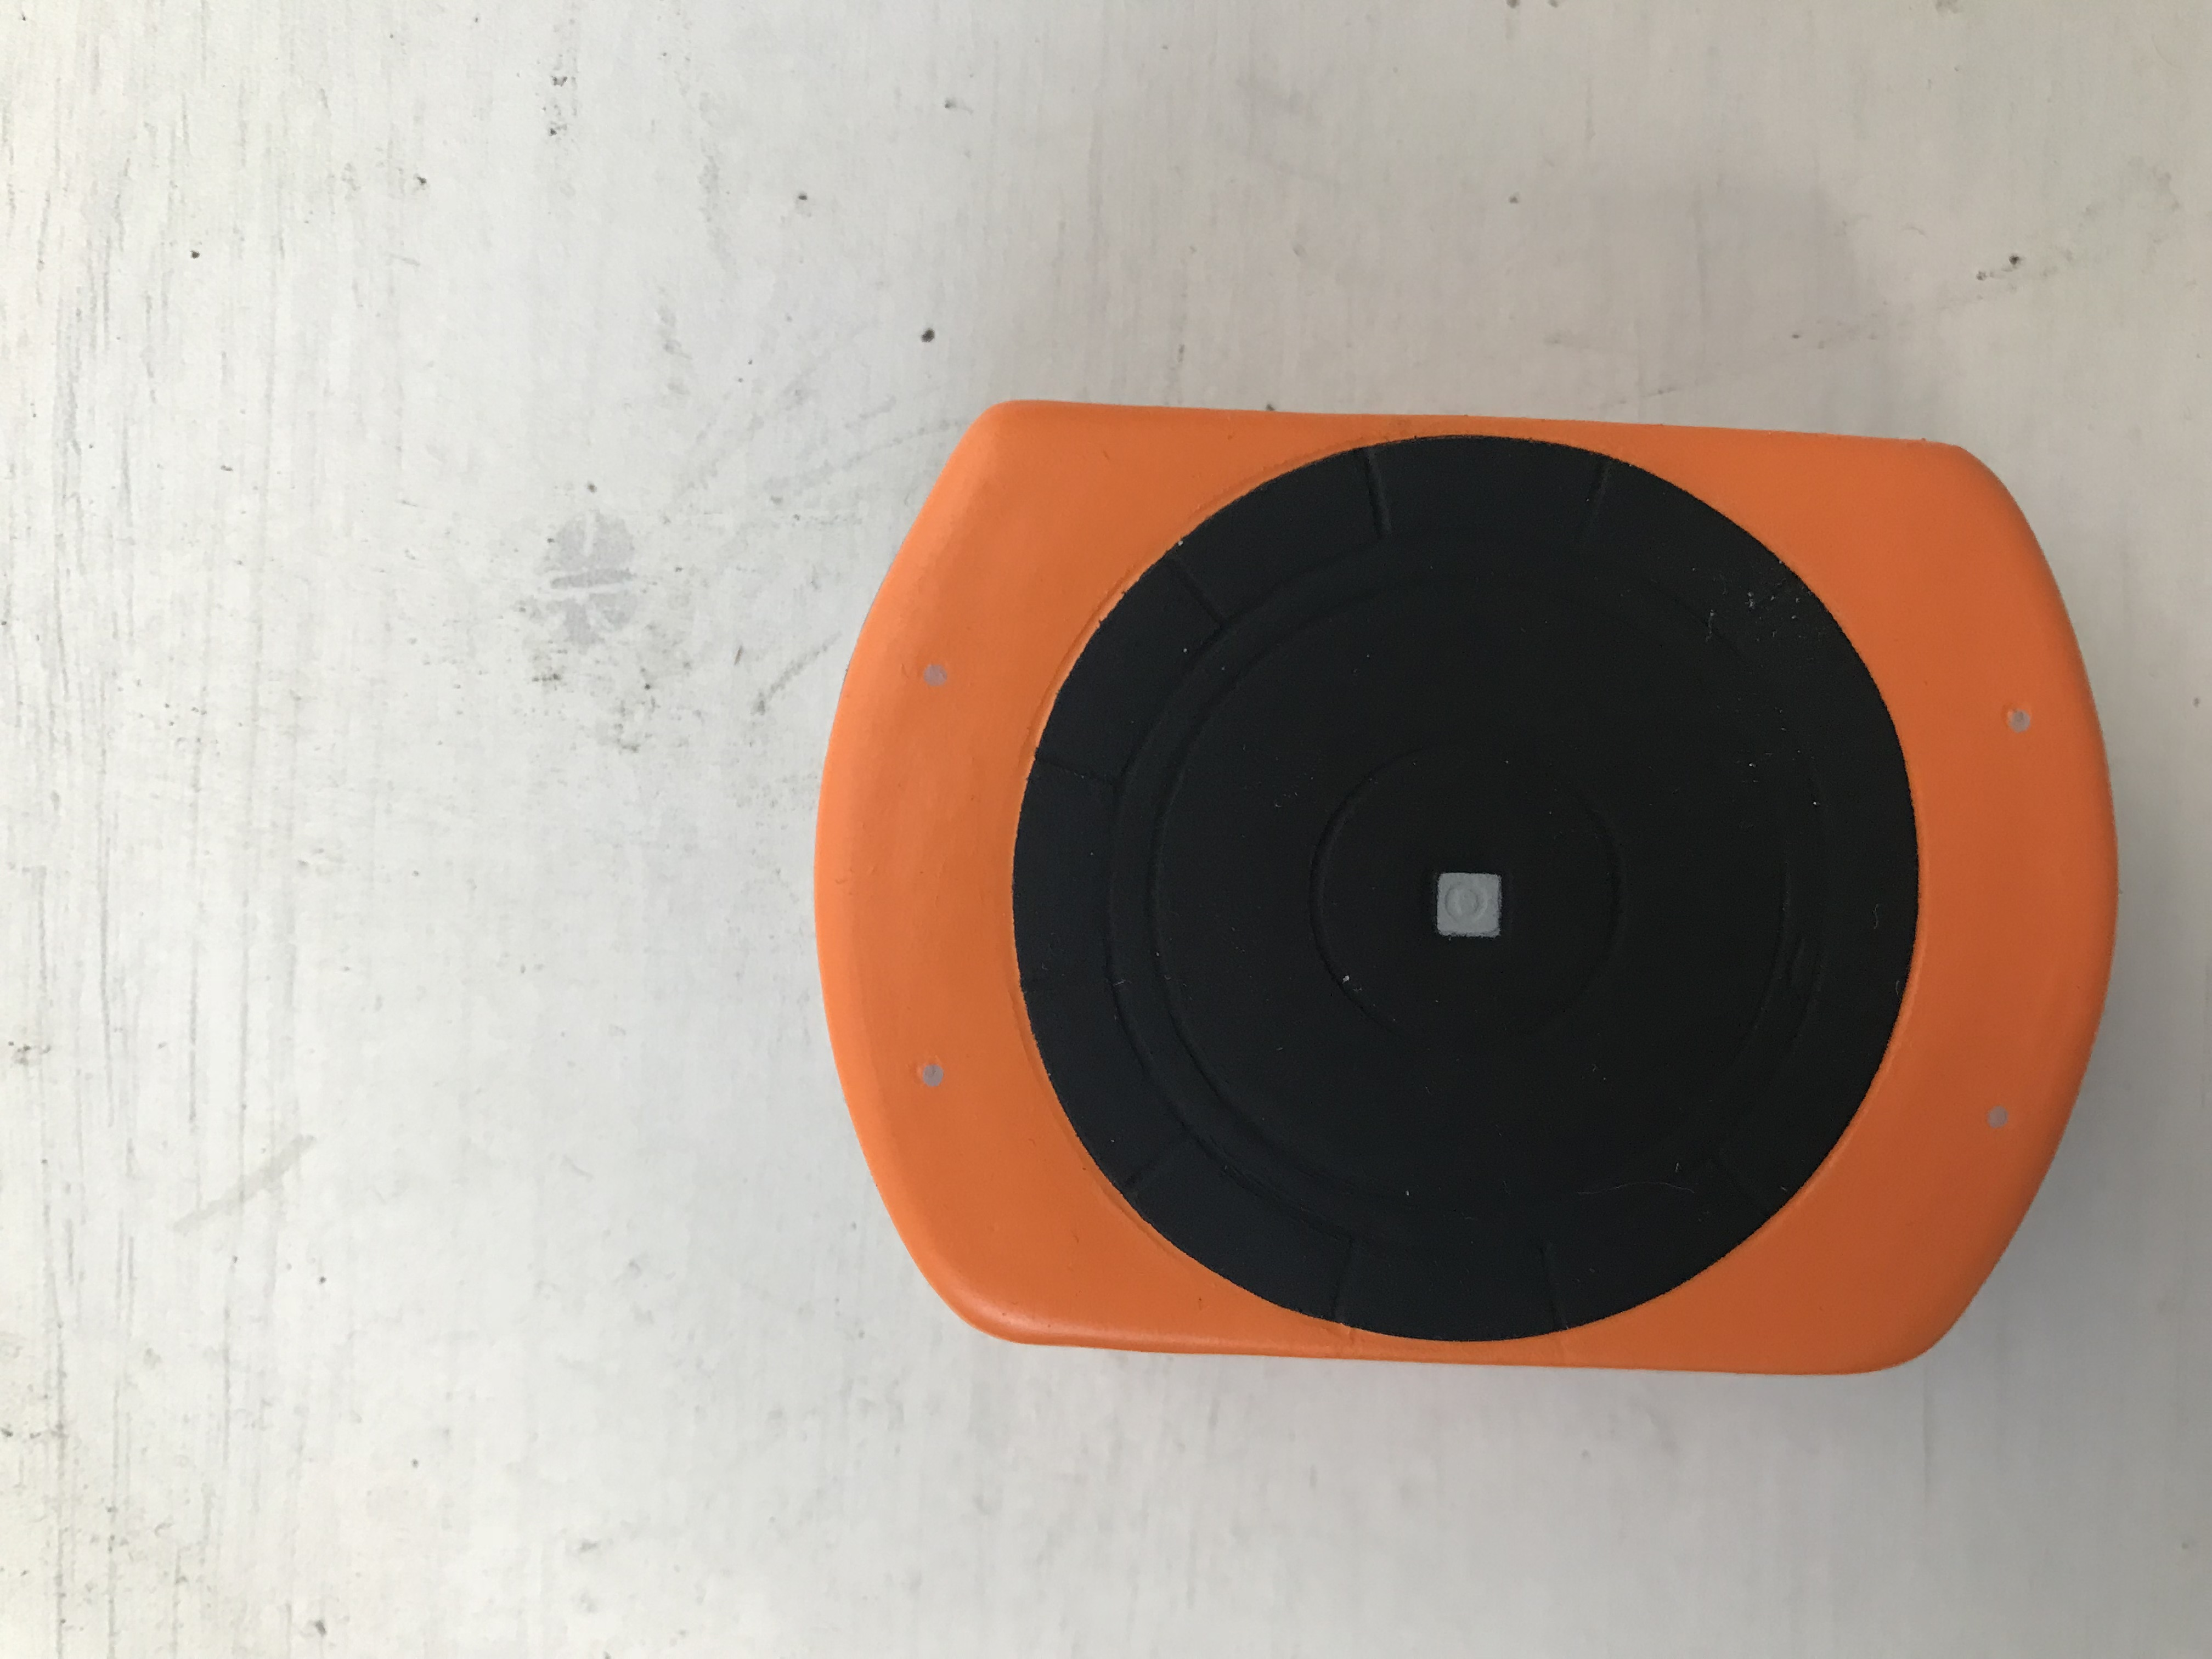amazon_bot: (784, 366, 2137, 1427)
